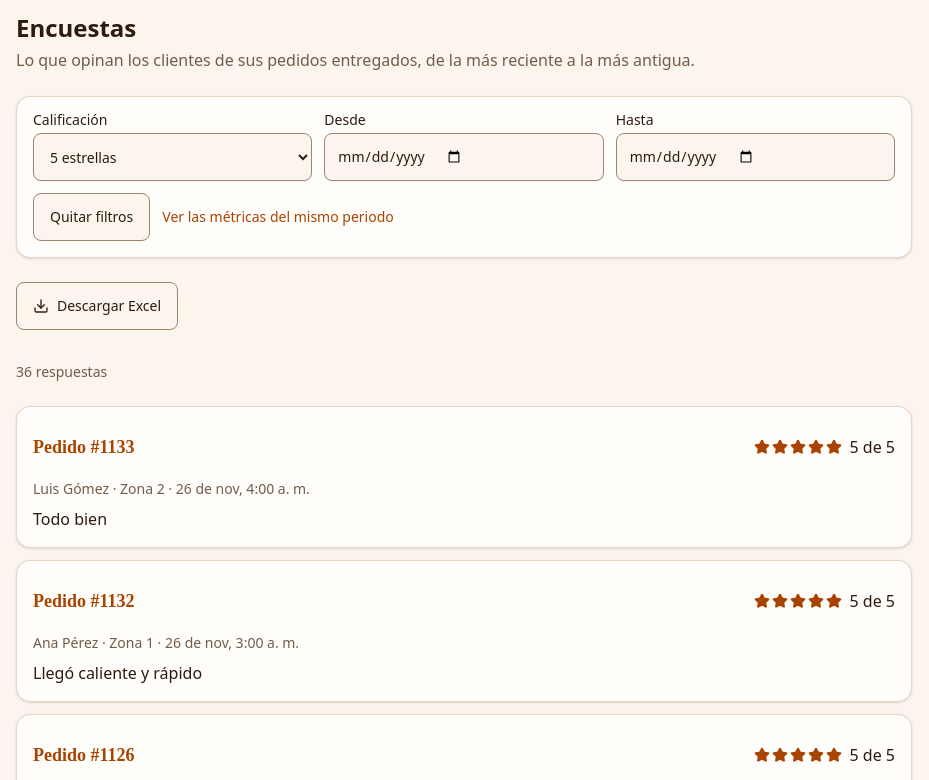
Test case: SurveysView › «Descargar Excel» baja todas las respuestas con los filtros de la URL
Click the button "Descargar Excel". click: (97, 306)
box: [16,282,178,330]
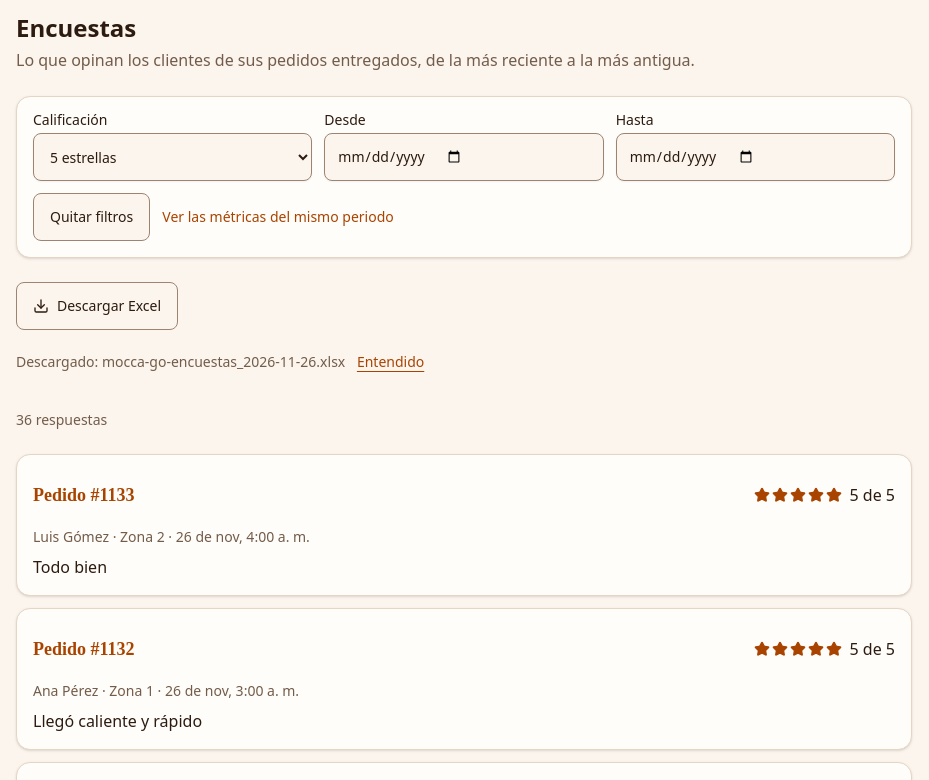
Check: the text "Descargado: mocca-go-encuestas_2026-11-26.xlsx Entendido" is shown, box [16,352,432,371]
